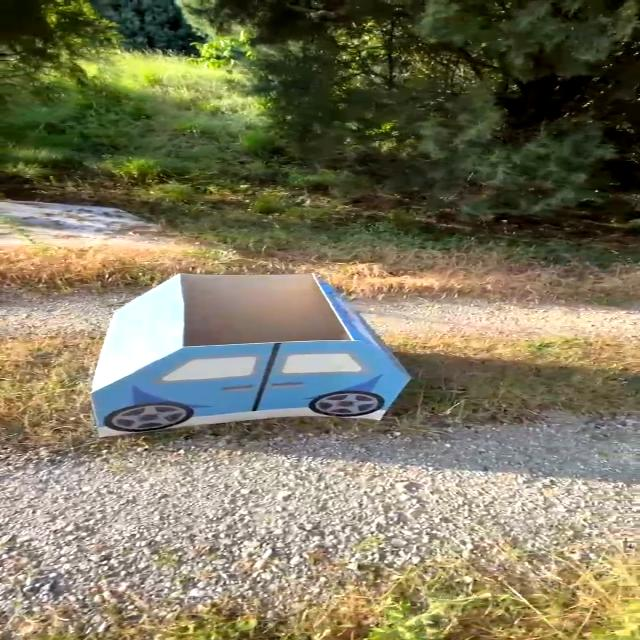blue_car: (0, 248, 471, 436)
